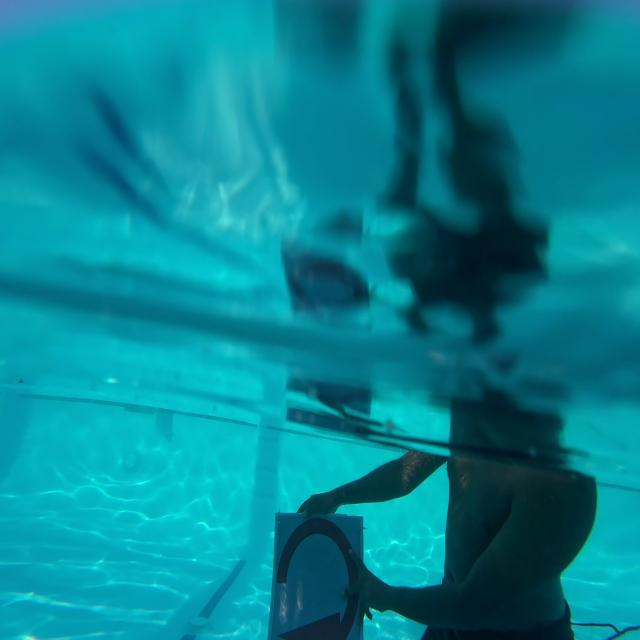red_side: (274, 517, 357, 640)
